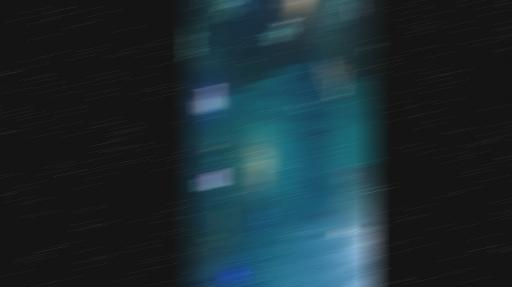Fish: (322, 59, 345, 103), (269, 18, 294, 43), (347, 166, 362, 188), (340, 183, 355, 205), (339, 163, 354, 183), (256, 210, 271, 224), (349, 2, 360, 21), (274, 200, 287, 216), (362, 167, 375, 183), (281, 194, 292, 209), (263, 107, 273, 120), (277, 214, 287, 227), (277, 95, 286, 109), (333, 227, 348, 235), (296, 99, 304, 113), (273, 113, 284, 123), (250, 101, 260, 112), (257, 87, 266, 99), (261, 208, 272, 217), (363, 186, 370, 200), (307, 213, 330, 217), (278, 128, 287, 138), (272, 90, 281, 99), (236, 0, 242, 13), (265, 91, 274, 99), (316, 216, 324, 223), (252, 115, 261, 120), (371, 45, 375, 51)
